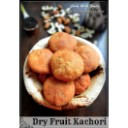poori: (44, 75, 76, 106), (51, 51, 84, 80), (74, 45, 101, 72), (49, 31, 77, 56), (28, 49, 57, 73)
